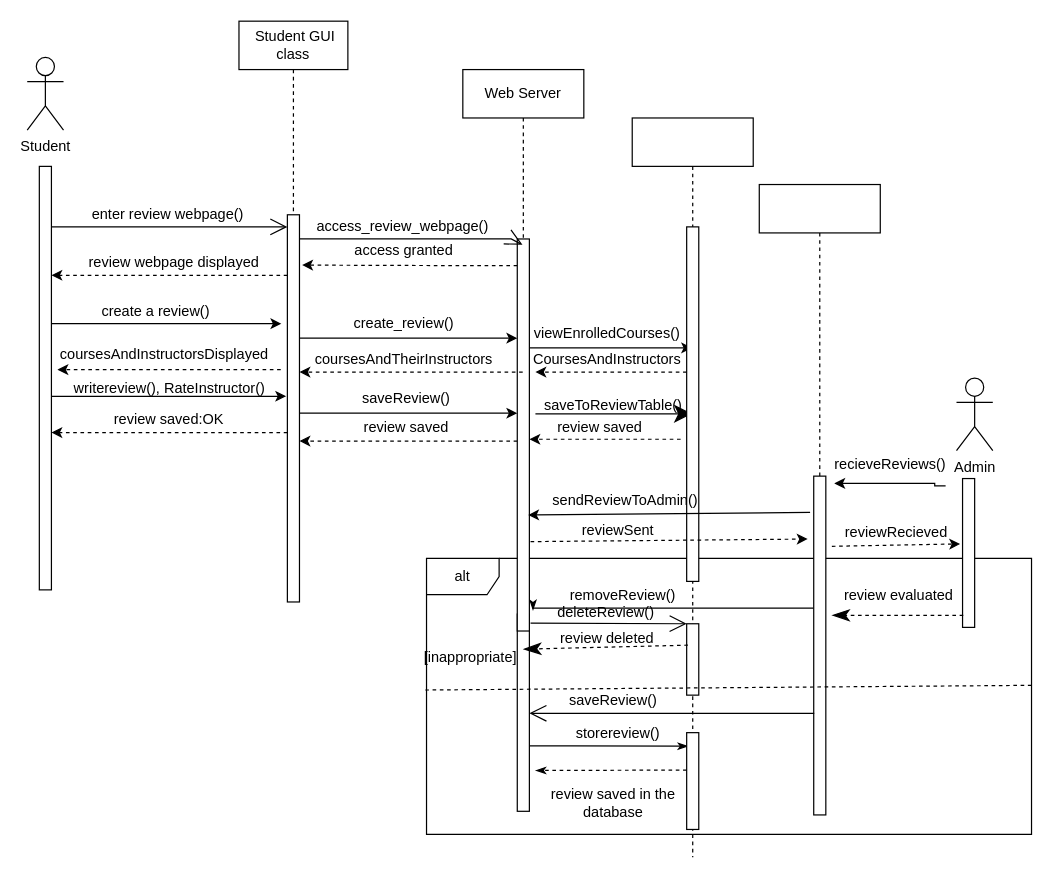
Some shapes in this 1056 by 878 pixel diagram are drawn without their labels. Here are the shapes that lost their labels. From the top down, the box of each, then its label:
(758, 183, 880, 504): Admin GUI class
(631, 117, 753, 857): database
